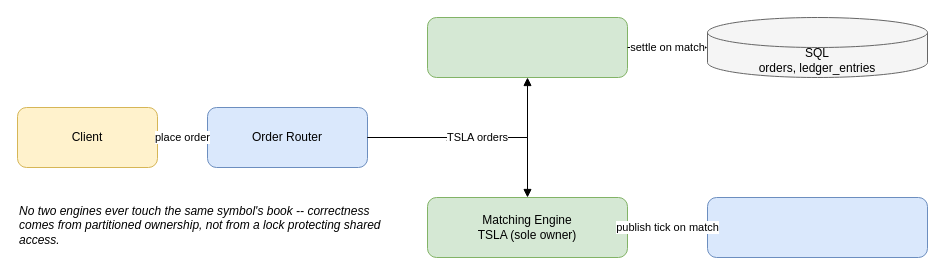
Image size: 945x275. Some labels were removed from this diagram. The shapes that lost their labels are listed below. From the top down, each one's centre as x and y in pixels, then its label:
At (x=527, y=47): "Matching Engine AAPL (sole owner)".
At (x=817, y=227): "Market Data Fan-out (chat-systems.md's registry)".
